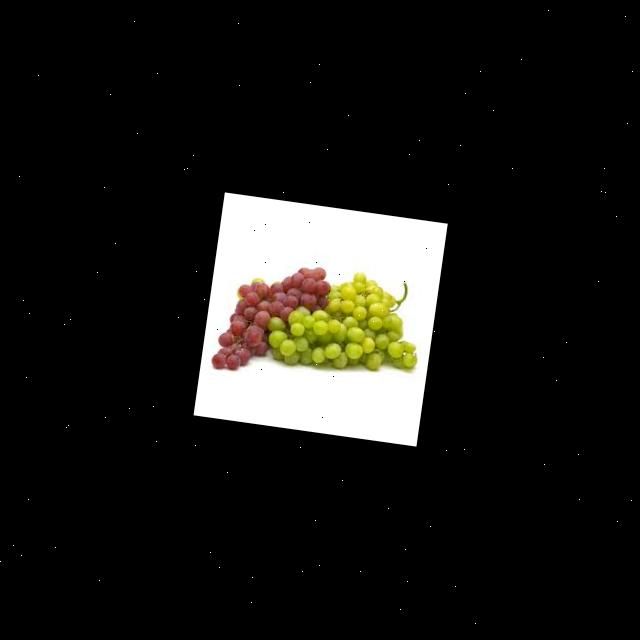grape: (268, 260, 422, 378), (210, 254, 334, 384), (268, 200, 392, 228)
